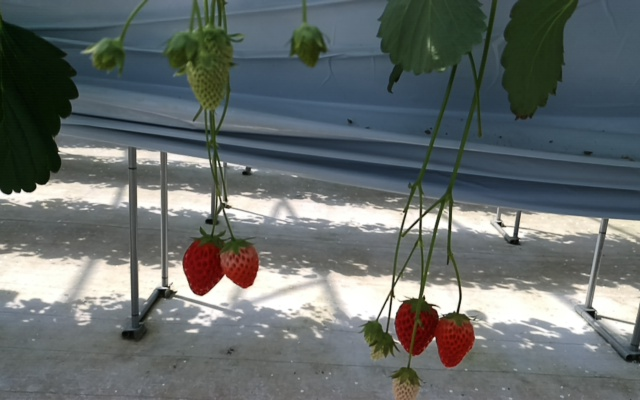GreenStrawberry: (185, 48, 229, 116), (392, 367, 421, 400)
MatureStrawberry: (392, 295, 438, 357), (181, 236, 225, 297), (436, 311, 476, 370), (220, 235, 261, 290)
